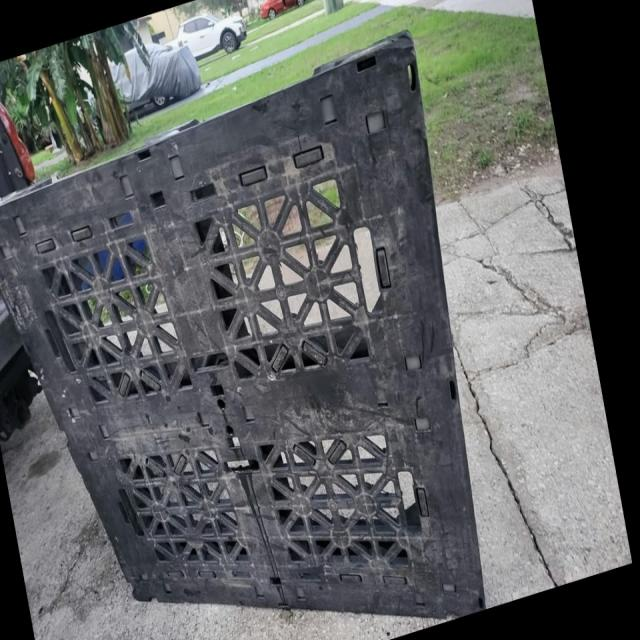igps: (0, 23, 494, 640)
